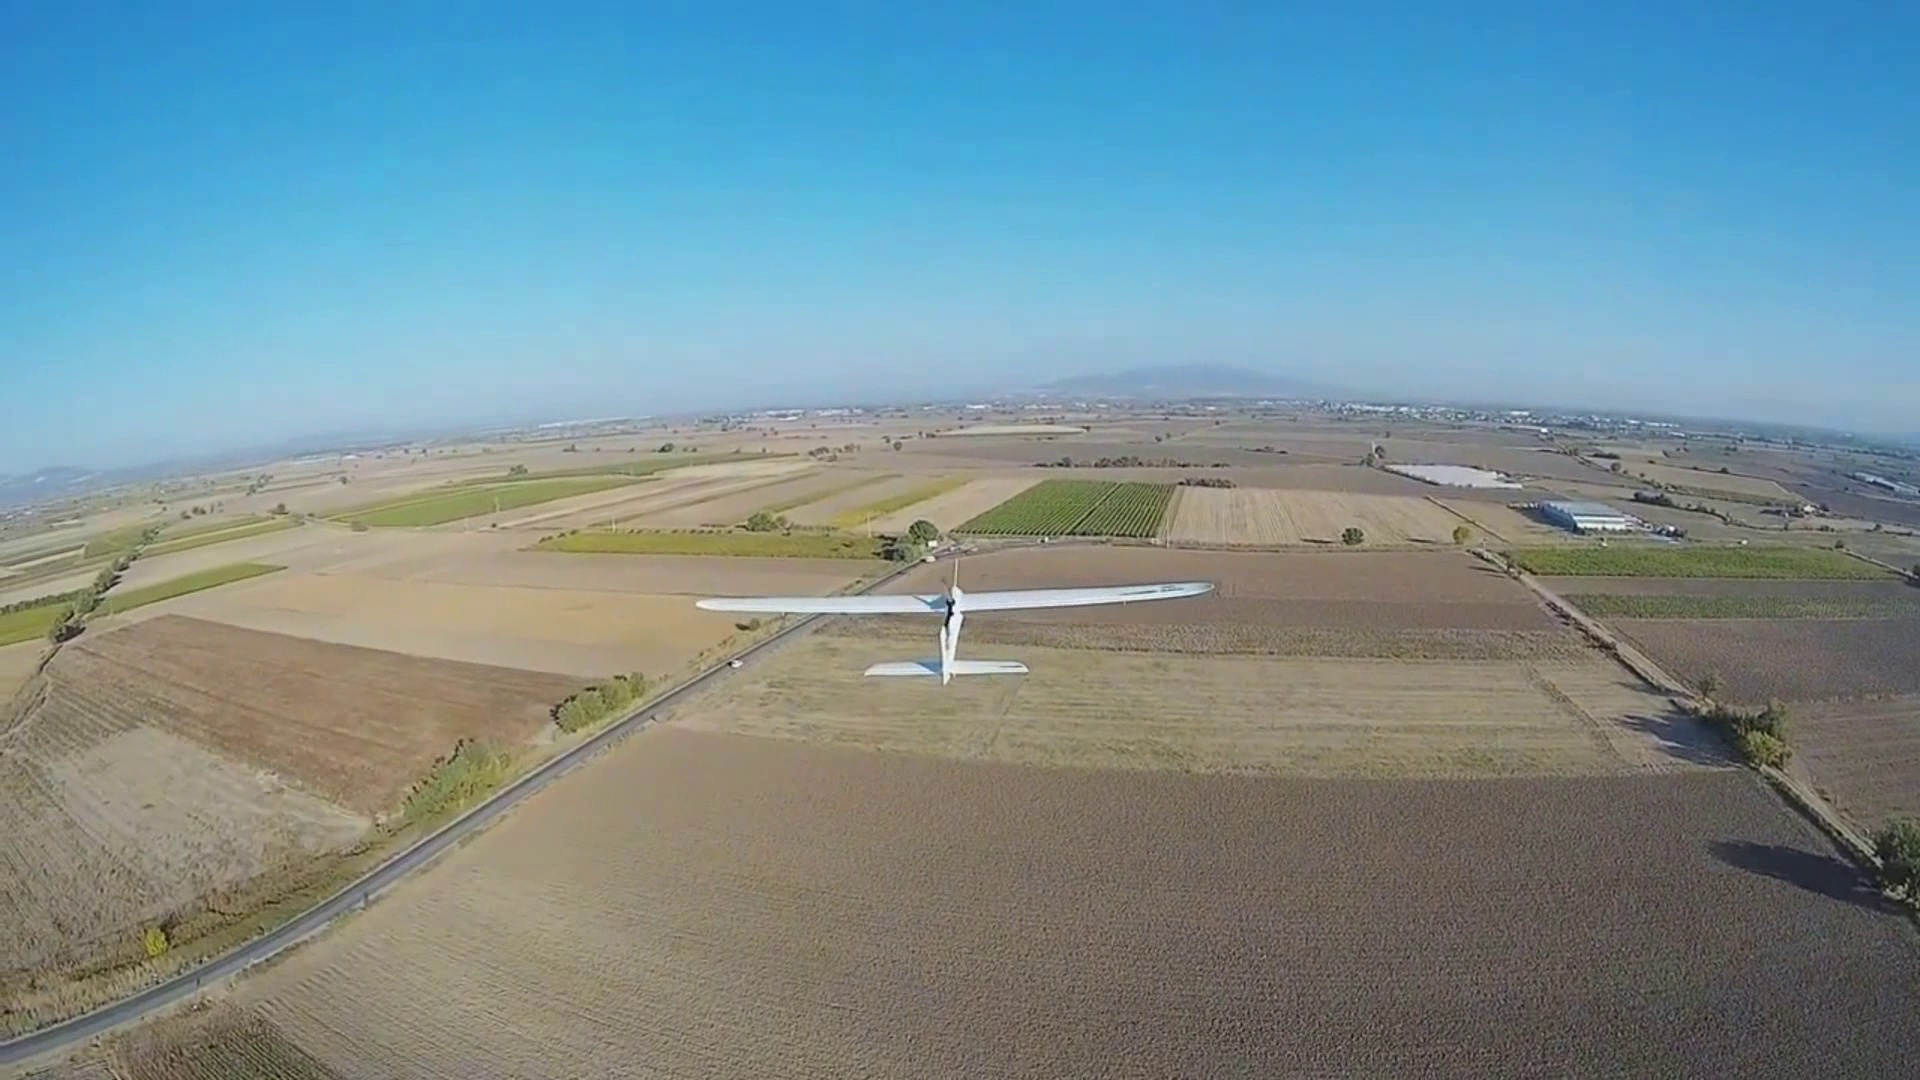airplane: (688, 526, 1218, 680)
